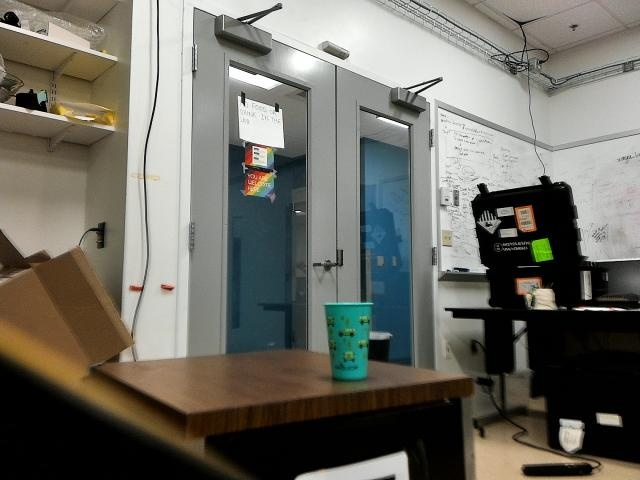coffee_cup: (321, 302, 375, 380)
